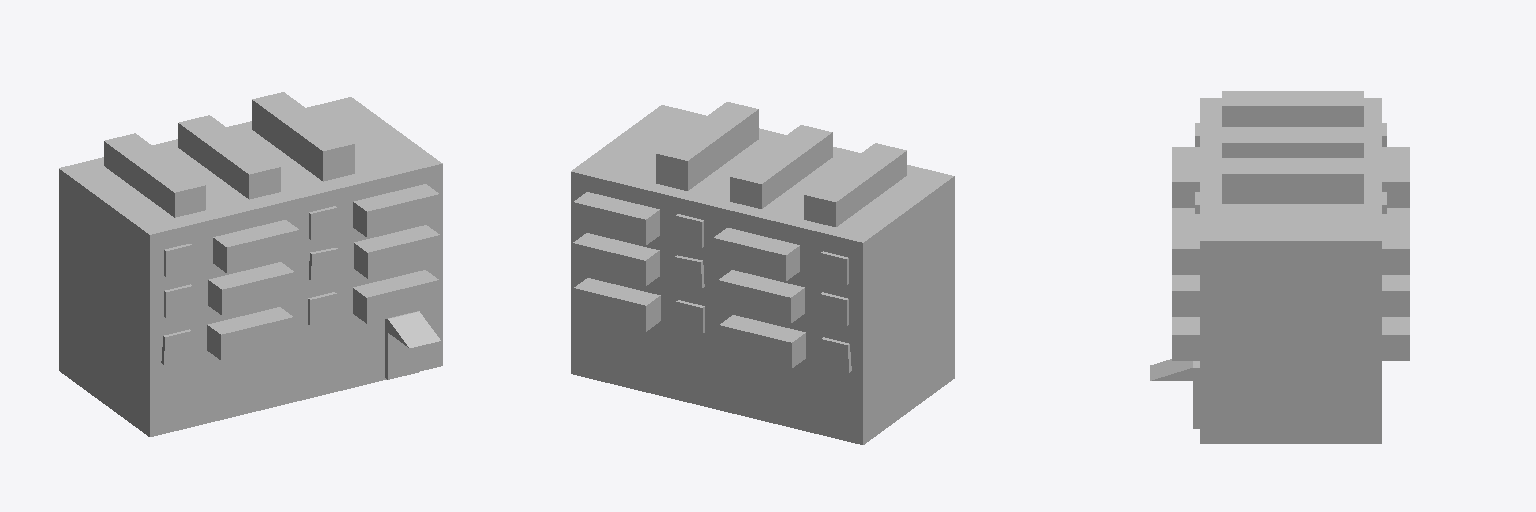
The model's file is house.obj.
3 views of the same model, side by side, from view 1: azimuth 30°, elevation 25°; view 2: azimuth 150°, elevation 25°; view 3: azimuth 270°, elevation 25° (orthographic).
Visible parts, largest first — view 1: house; view 2: house; view 3: house.
Part boxes in pixels (x1,y1,x2,y2): house: (59,92,442,436); house: (571,102,954,444); house: (1150,91,1409,443).
Bounding box in the file's own units: 3.03 × 2.3 × 2.33.